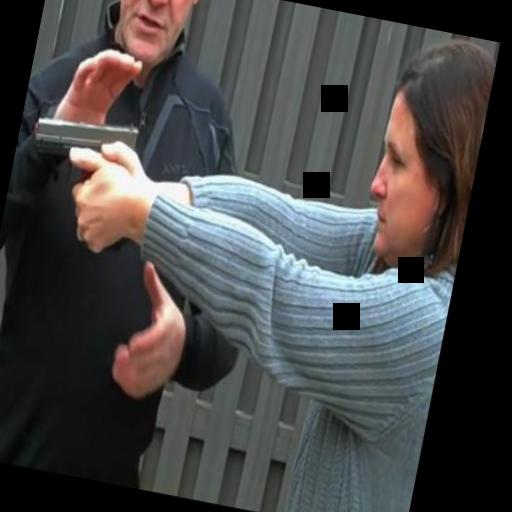Handgun: (11, 104, 148, 254)
